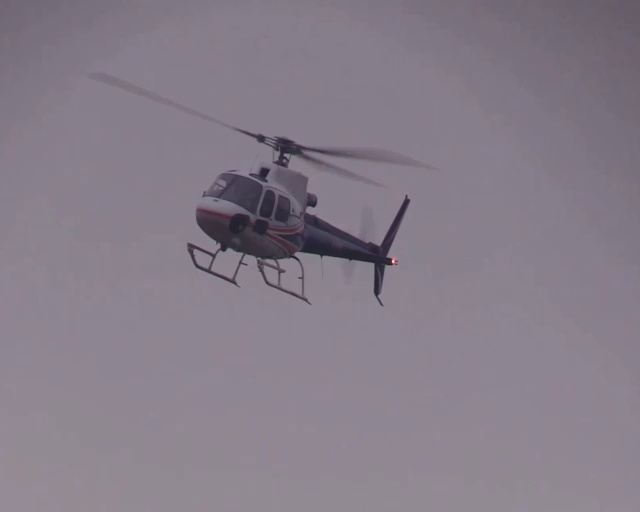HELICOPTER: (85, 64, 439, 305)
